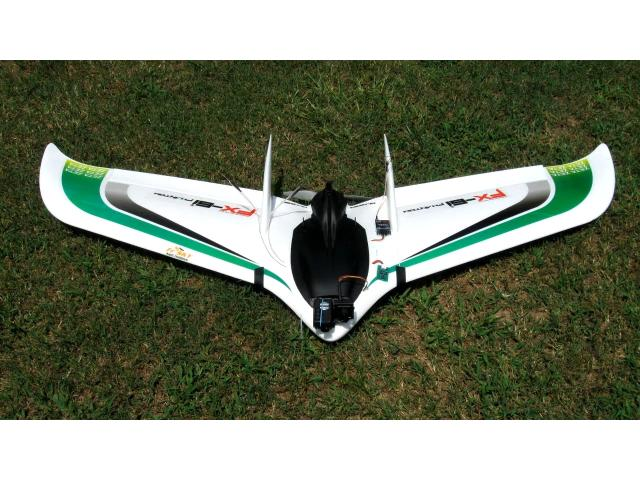Anti-Drone: (26, 116, 640, 356)
